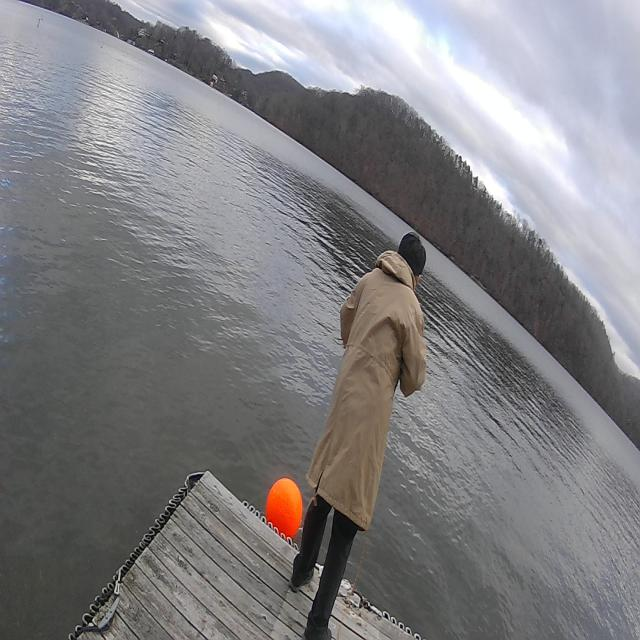Buoy: (261, 470, 306, 543)
